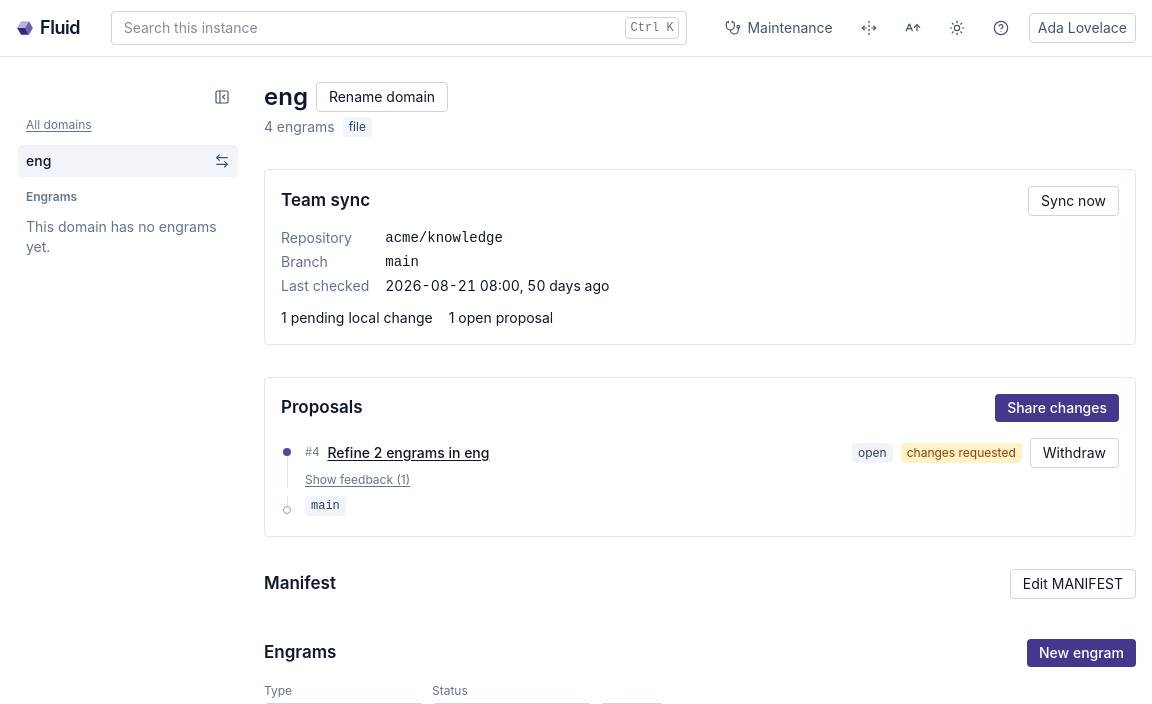
Test: the proposals card › asks nothing about your identity when the instance shares as itself
What coordinates should you click on to do the following:
click the button "Withdraw"
I would click on:
 (1074, 453)
Its box is [1030,438,1119,468].
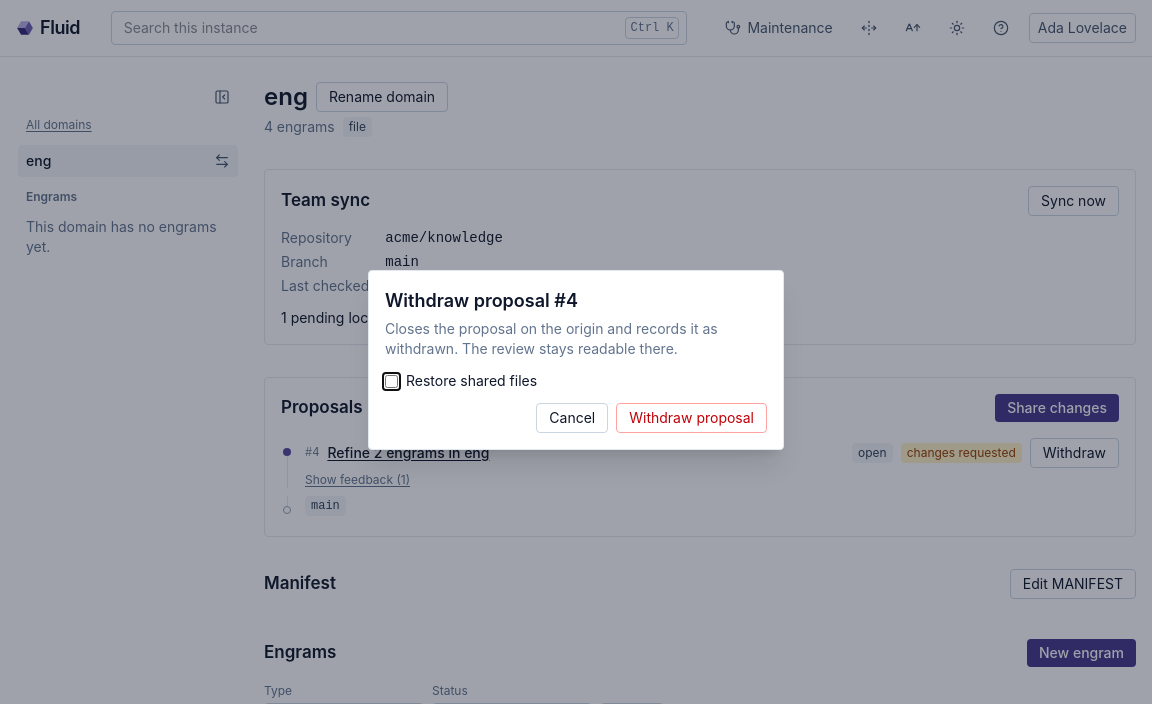
expect the button "Withdraw proposal" is enabled: met, box [616,403,767,433]
